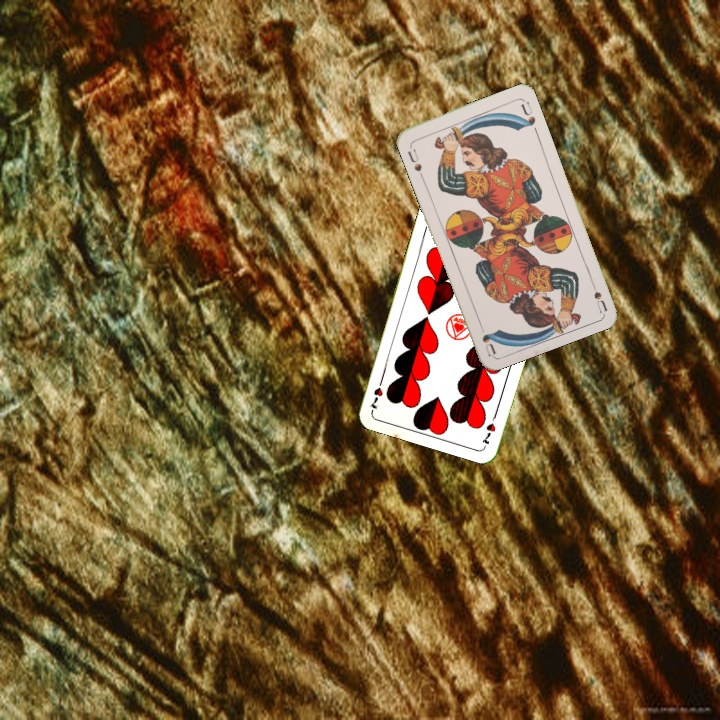H7: (478, 409, 500, 448)
SU: (586, 274, 609, 314), (404, 145, 424, 174)
